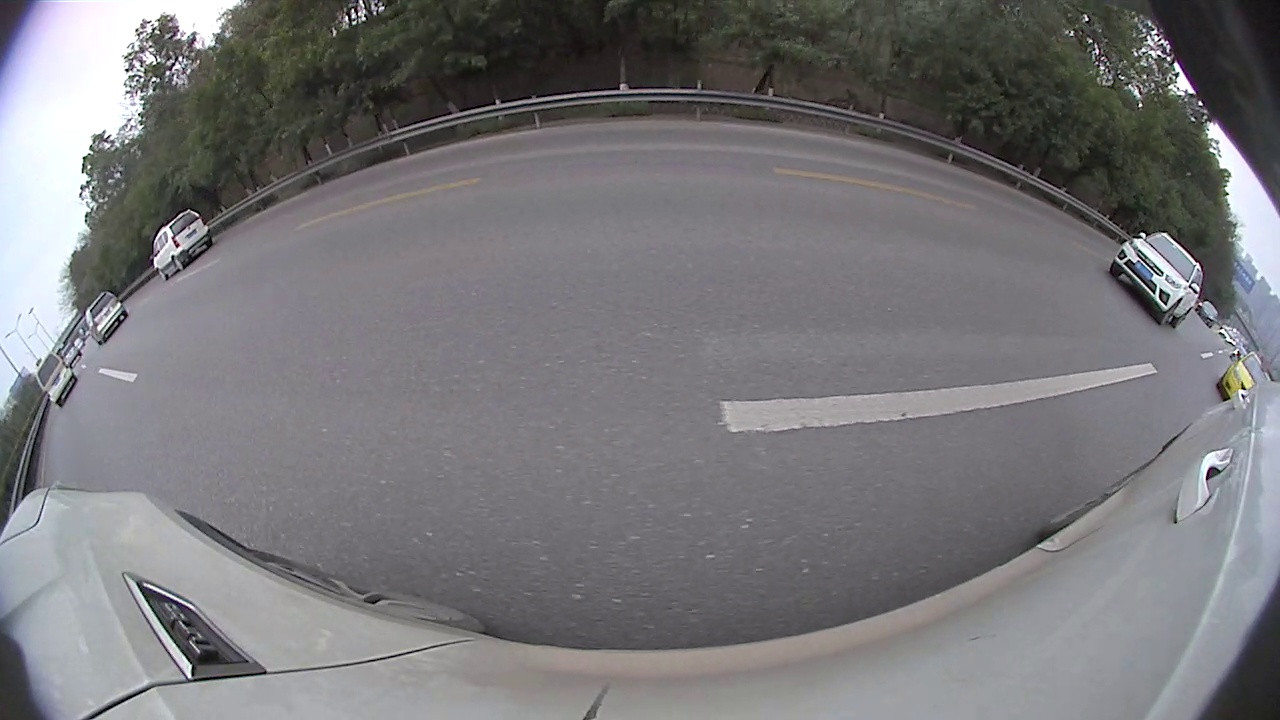car: (1110, 230, 1205, 329), (151, 208, 215, 282), (1216, 350, 1273, 403), (34, 351, 79, 408), (84, 290, 129, 346), (1195, 299, 1219, 328), (60, 342, 83, 370)
front: (1160, 300, 1179, 327), (157, 268, 168, 281)
rear: (172, 257, 183, 271)
